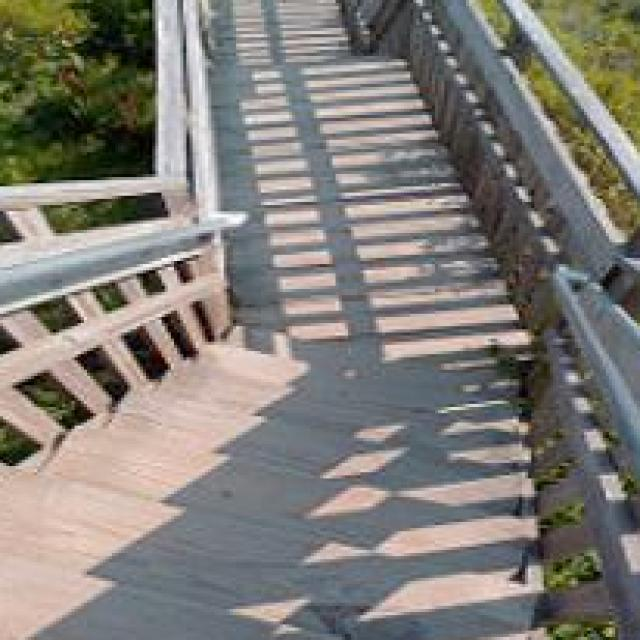downstair: (7, 414, 430, 640)
